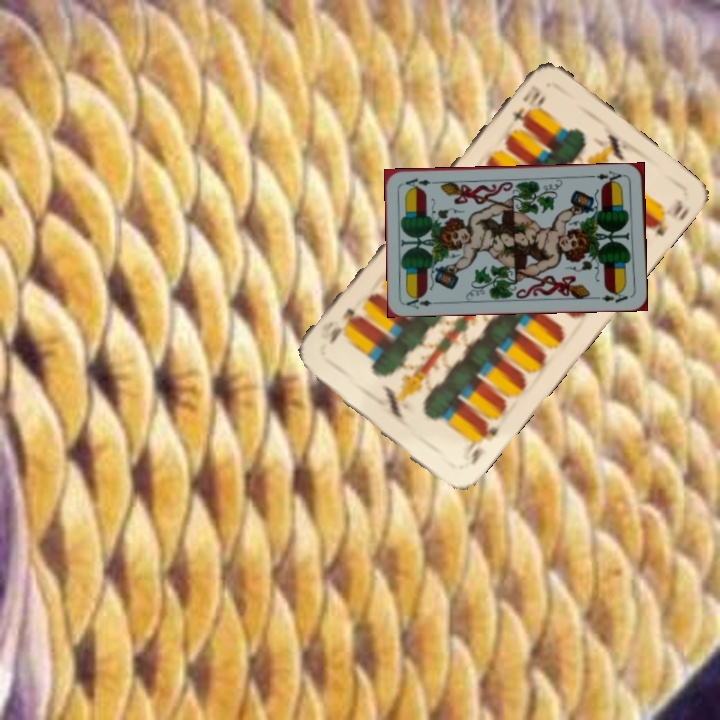E10: (462, 418, 502, 468), (508, 81, 544, 125)
EA: (587, 166, 628, 186), (402, 292, 443, 312)
